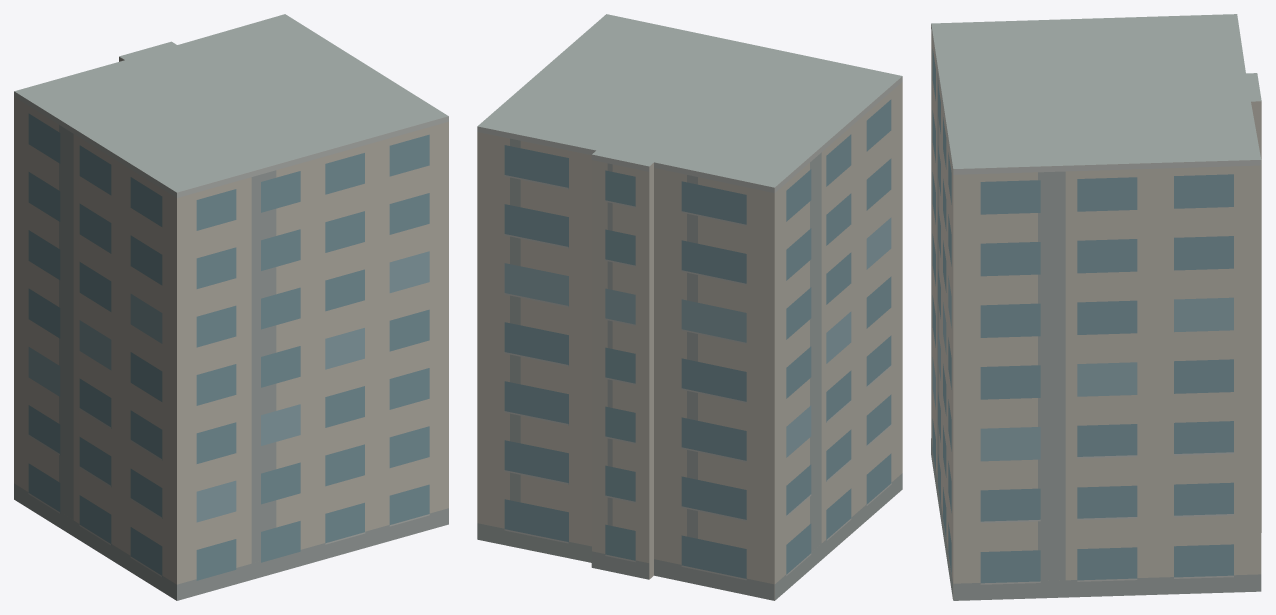
Rendered from survey-upis-32872575.glb.
The picture shows the model from 3 angles, left to right: view 1: azimuth 30°, elevation 25°; view 2: azimuth 150°, elevation 25°; view 3: azimuth 270°, elevation 25°; orthographic projection. The views are drawn at different scales.
Visible parts, largest first — view 1: survey-upis-32872575.tmp; view 2: survey-upis-32872575.tmp; view 3: survey-upis-32872575.tmp.
Part boxes in pixels (x1=…): survey-upis-32872575.tmp: x1=14, y1=14, x2=448, y2=600; survey-upis-32872575.tmp: x1=477, y1=14, x2=902, y2=600; survey-upis-32872575.tmp: x1=931, y1=14, x2=1261, y2=600.
Bounding box in the file's own units: 14.03 × 18.2 × 12.63.
